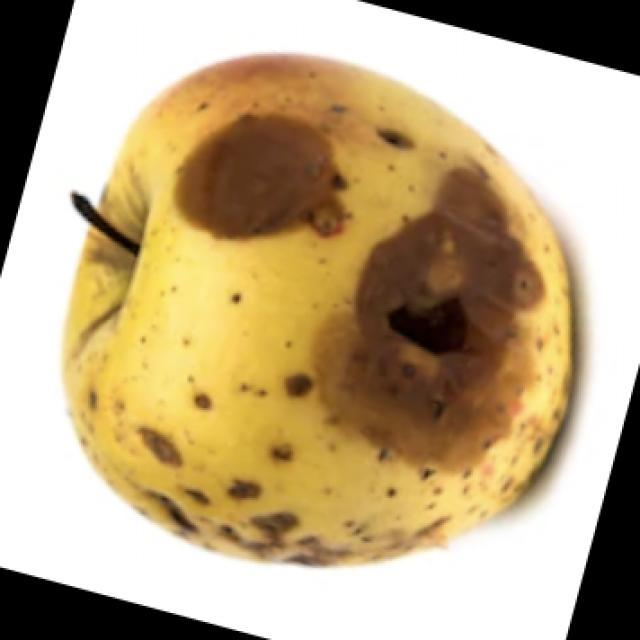Rotten: (75, 63, 568, 575)
